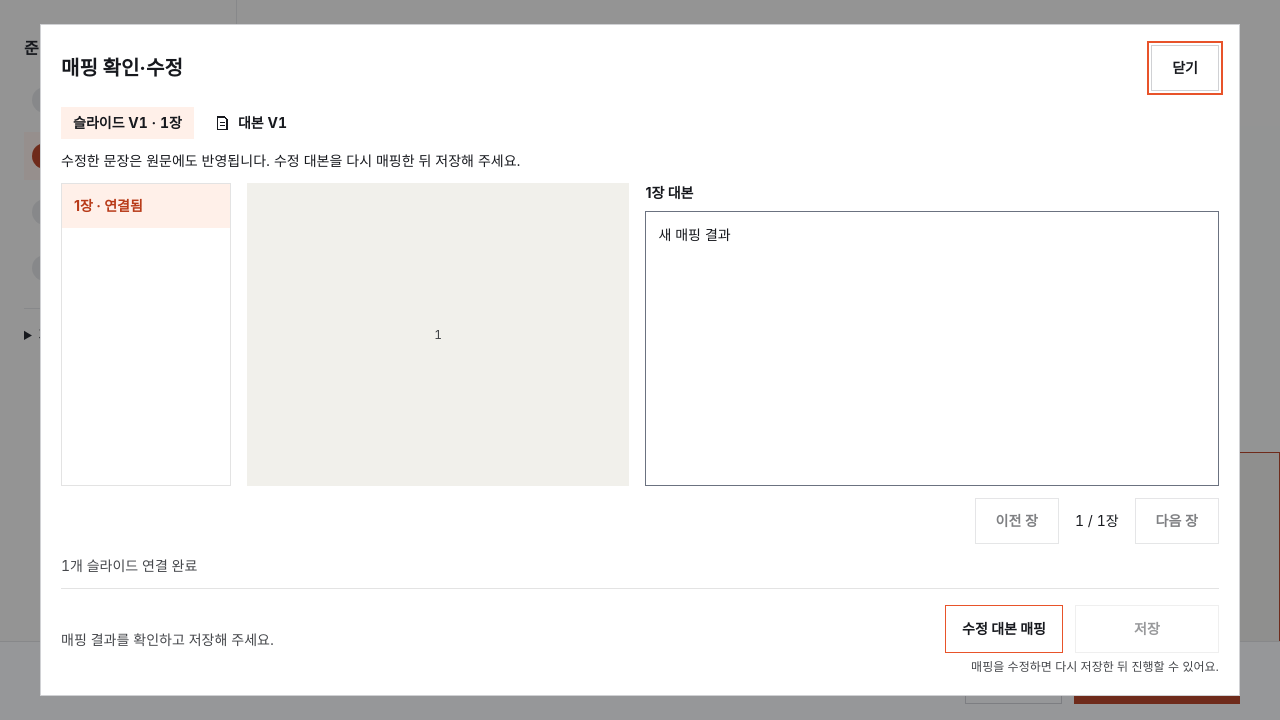
it: 이번 매핑이 성공하면 확인 창을 열고 실패나 기존 자료 열람에는 열지 않는다
The width and height of the screenshot is (1280, 720).
Expected: the dialog shows "매핑 확인·수정", [61,56,183,80]
Click the button "닫기" at (1185, 68), box [1151,45,1219,91]
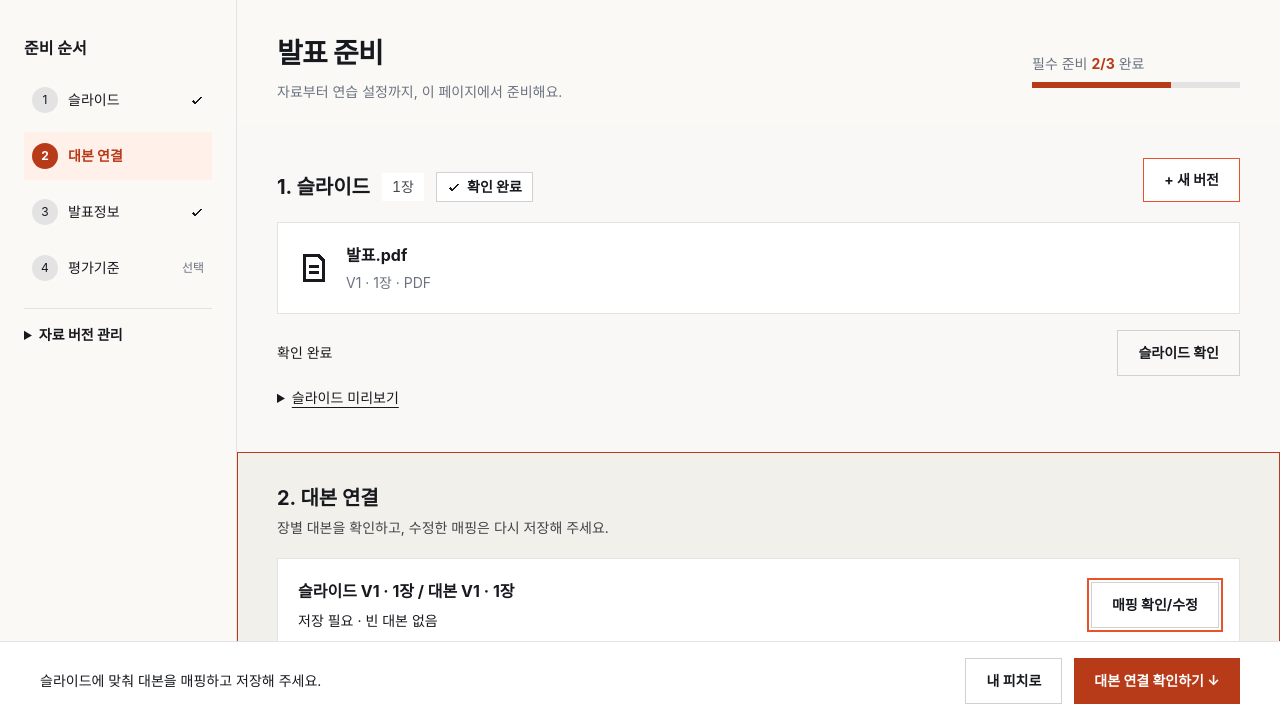
Expected: the dialog is gone
